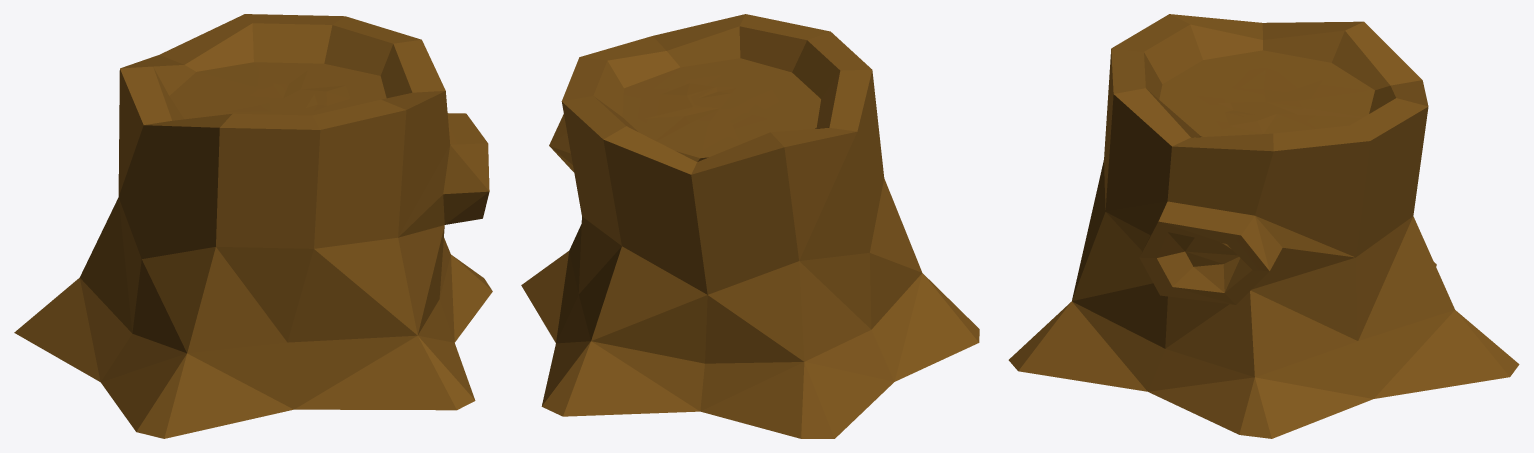
Rendered from TreePen.fbx.
3 views of the same model, side by side, from view 1: azimuth 30°, elevation 25°; view 2: azimuth 150°, elevation 25°; view 3: azimuth 270°, elevation 25° (orthographic). The views are drawn at different scales.
Visible parts, largest first — view 1: SM_Generic_TreeStump_01; view 2: SM_Generic_TreeStump_01; view 3: SM_Generic_TreeStump_01.
Boxes of the visible parts, x1=… form: SM_Generic_TreeStump_01: x1=14, y1=14, x2=492, y2=438; SM_Generic_TreeStump_01: x1=521, y1=14, x2=979, y2=438; SM_Generic_TreeStump_01: x1=1008, y1=14, x2=1519, y2=438.
Size of the model in its own units: 77.76 by 49.76 by 82.1.
